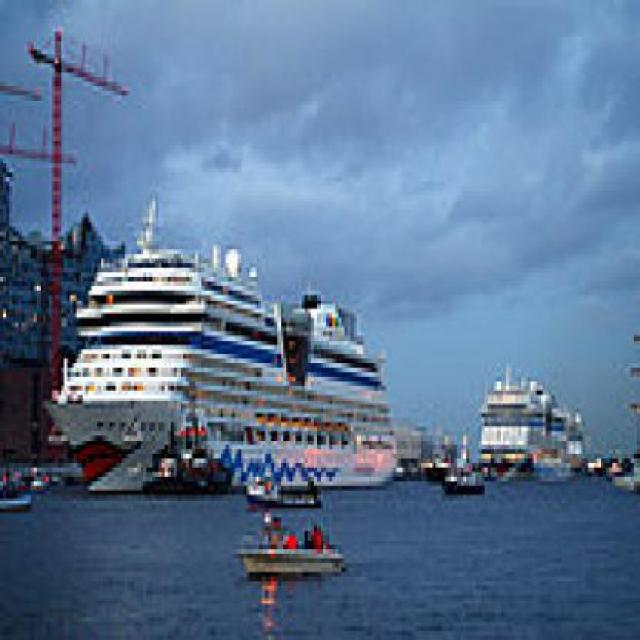cruise: (41, 178, 410, 506), (467, 356, 587, 500)
